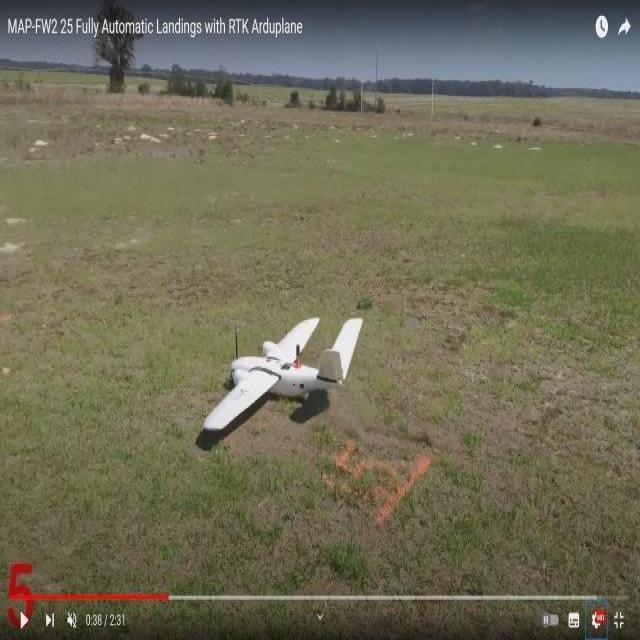Airplane: (194, 307, 368, 439)
